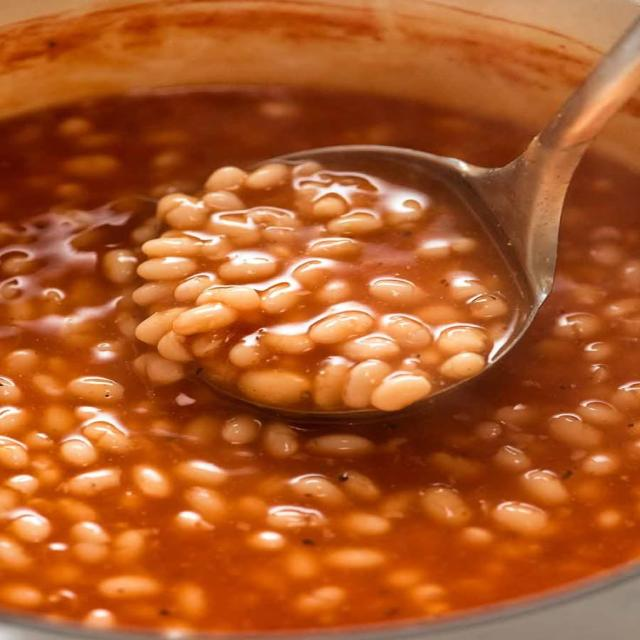beans: (119, 163, 509, 411), (238, 369, 310, 406), (343, 360, 392, 408), (371, 373, 431, 411), (173, 302, 238, 335), (310, 311, 373, 344), (420, 487, 471, 526), (313, 357, 350, 408), (491, 502, 548, 535), (549, 414, 602, 449), (218, 253, 279, 283), (136, 307, 185, 344), (208, 212, 259, 246), (520, 470, 569, 505), (290, 475, 345, 506), (436, 325, 490, 355), (383, 316, 432, 349), (83, 421, 132, 454), (196, 286, 260, 311), (65, 468, 121, 496), (184, 486, 227, 522), (307, 434, 374, 457), (67, 377, 124, 404), (368, 279, 424, 306), (342, 335, 400, 361), (98, 575, 160, 599), (295, 586, 346, 615), (174, 460, 228, 487), (62, 154, 120, 179), (7, 511, 52, 543), (138, 256, 197, 280), (172, 274, 219, 304), (312, 195, 348, 234), (338, 470, 380, 502), (263, 422, 299, 459), (132, 465, 172, 498), (554, 313, 602, 340), (174, 581, 207, 620), (327, 212, 382, 235), (260, 331, 315, 354), (326, 548, 386, 569), (244, 163, 290, 190), (440, 352, 486, 379), (260, 283, 300, 314), (142, 236, 201, 257), (113, 529, 147, 565), (307, 238, 362, 260), (577, 400, 623, 426), (103, 249, 137, 284), (165, 202, 209, 229), (221, 414, 260, 444), (0, 536, 33, 571), (60, 437, 98, 467), (385, 199, 424, 228), (157, 331, 193, 362), (228, 339, 266, 368), (0, 583, 44, 608), (343, 512, 390, 535), (293, 260, 331, 288), (314, 279, 353, 306), (284, 550, 319, 580), (156, 193, 196, 219), (447, 275, 486, 301), (469, 294, 508, 320), (132, 282, 174, 306), (206, 166, 246, 191), (494, 445, 531, 472), (0, 437, 28, 469), (5, 349, 39, 375), (203, 190, 244, 211), (70, 522, 109, 544), (174, 511, 213, 532), (582, 453, 619, 475), (0, 406, 28, 435), (200, 236, 233, 260), (247, 531, 286, 551), (82, 609, 116, 629), (460, 527, 493, 546)
